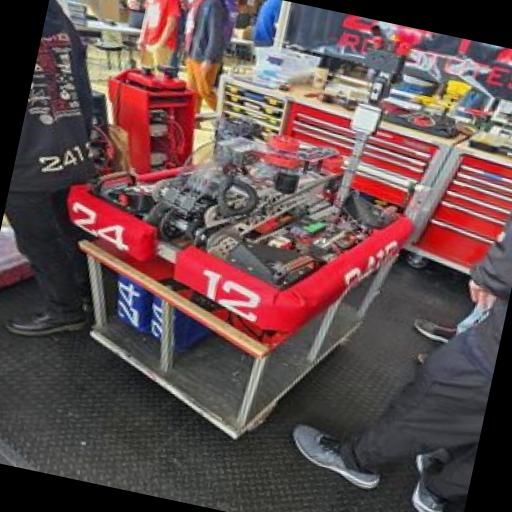robot: (41, 0, 466, 384)
